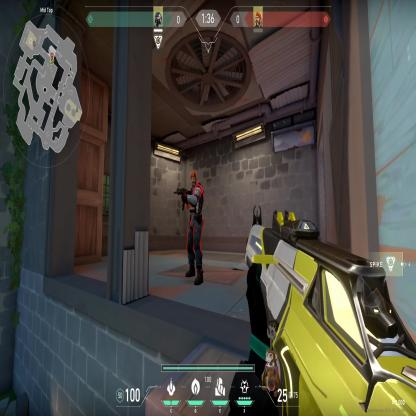enemy: (178, 168, 208, 289)
